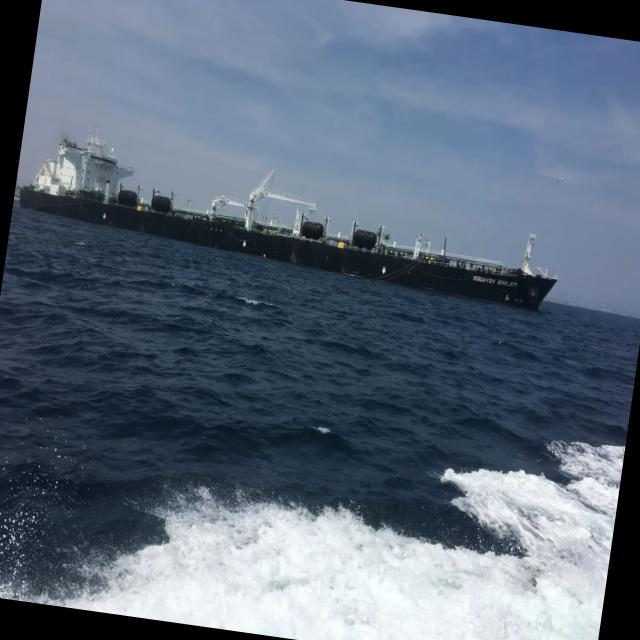Tanker: (20, 133, 557, 310)
